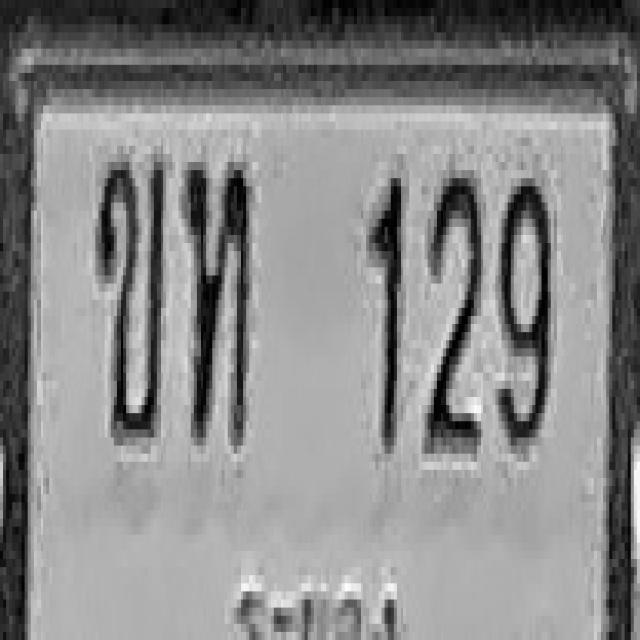1: (368, 170, 402, 446)
11KhorKhai: (95, 154, 163, 437)
2: (425, 170, 480, 446)
32ThorThaHan: (185, 158, 249, 441)
9: (495, 170, 551, 446)
